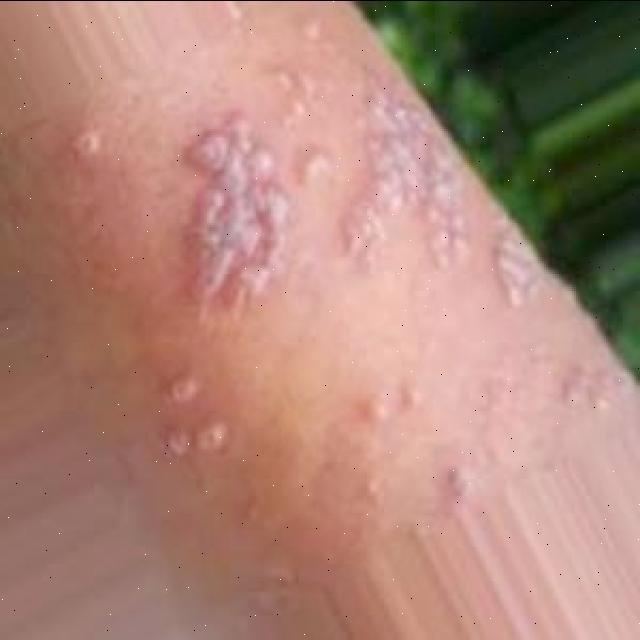Shingles: (340, 90, 463, 272), (182, 110, 281, 318), (166, 375, 228, 455), (492, 222, 536, 308)
